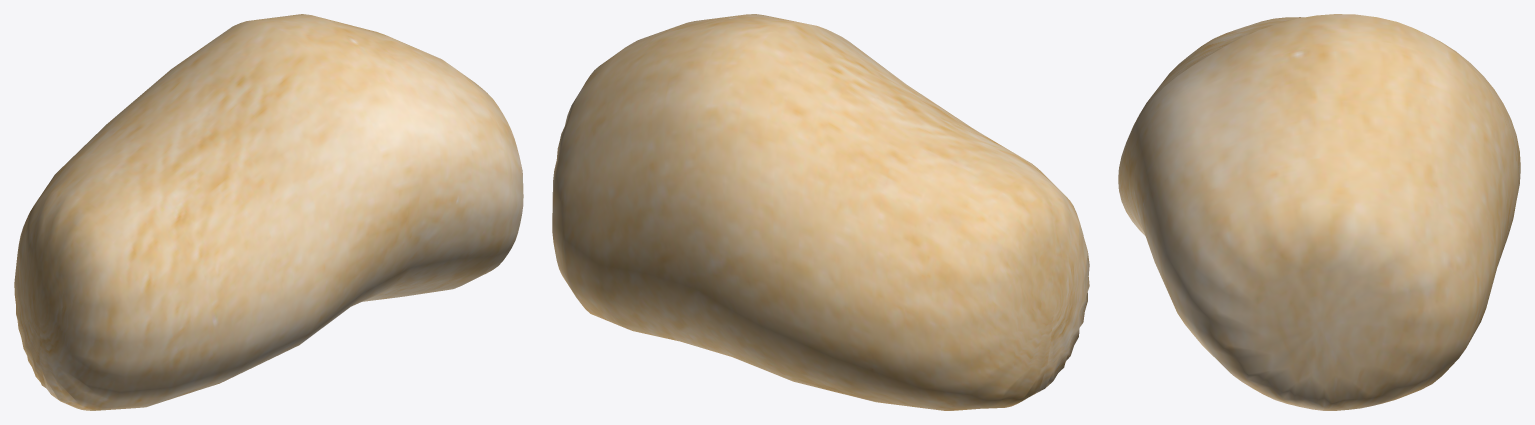
The model's file is CutDough4.fbx.
3 renders of one model, left to right at view 1: azimuth 30°, elevation 25°; view 2: azimuth 150°, elevation 25°; view 3: azimuth 270°, elevation 25°, orthographic. The views are drawn at different scales.
Parts seen in each view (by area): view 1: cut1; view 2: cut1; view 3: cut1.
Boxes of the visible parts, bbox=[...] form: cut1: bbox=[14, 14, 523, 410]; cut1: bbox=[552, 14, 1089, 410]; cut1: bbox=[1118, 14, 1520, 410].
Size of the model in its own units: 4.14 by 2.68 by 2.85.
Materials: 1 (1 with a texture image).
